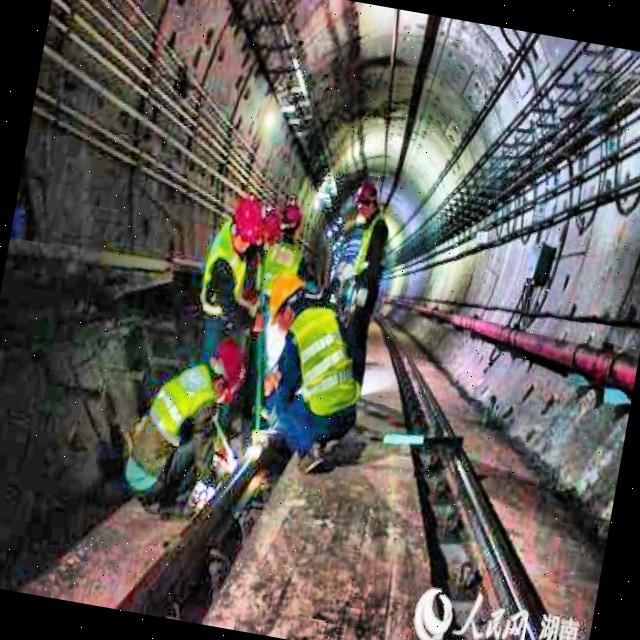helmet: (256, 264, 312, 340), (198, 335, 255, 409), (222, 192, 264, 256), (349, 177, 382, 220)
